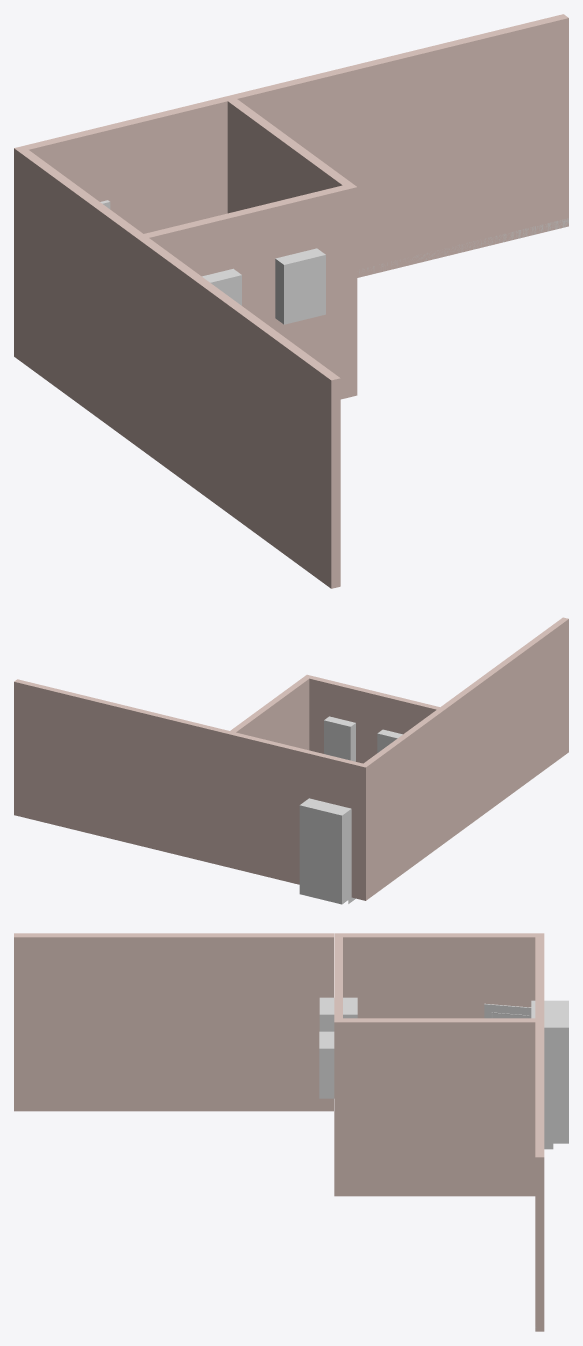
The model's file is WashRoom_1.dae.
The picture shows the model from 3 angles, top to bottom: view 1: azimuth 30°, elevation 25°; view 2: azimuth 150°, elevation 25°; view 3: azimuth 270°, elevation 25°; orthographic projection. The views are drawn at different scales.
Visible parts, largest first — view 1: Room, Room.002, Room.001, CTRL_Hole, CTRL_Hole.001; view 2: Room, Room.002, Room.001, CTRL_Hole.002, CTRL_Hole; view 3: Room.001, Room, CTRL_Hole.002, Room.002, CTRL_Hole, CTRL_Hole.001, Door.
Boxes of the visible parts, box(x1,y1,x2,y2) form: Room: box(14, 95, 357, 448); Room.002: box(232, 14, 568, 277); Room.001: box(139, 238, 340, 588); CTRL_Hole: box(275, 248, 325, 324); CTRL_Hole.001: box(202, 268, 241, 305); Room: box(226, 674, 446, 900); Room.002: box(14, 679, 229, 866); Room.001: box(440, 617, 568, 841); CTRL_Hole.002: box(299, 798, 351, 904); CTRL_Hole: box(324, 716, 355, 761); Room.001: box(14, 933, 333, 1111); Room: box(334, 933, 544, 1196); CTRL_Hole.002: box(531, 1000, 568, 1143); Room.002: box(535, 1022, 544, 1331); CTRL_Hole: box(319, 1031, 334, 1098); CTRL_Hole.001: box(319, 997, 357, 1031); Door: box(484, 1003, 531, 1018).
Bounding box in the file's own units: 8.28 × 8.67 × 3.1.
